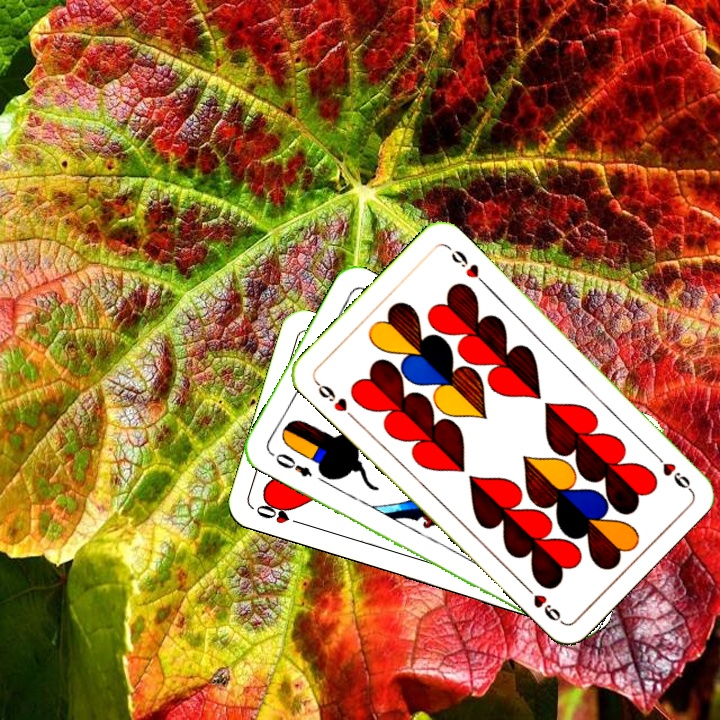EO: (271, 449, 315, 480)
H9: (647, 446, 694, 493), (310, 376, 357, 422)
HO: (252, 499, 308, 529)
